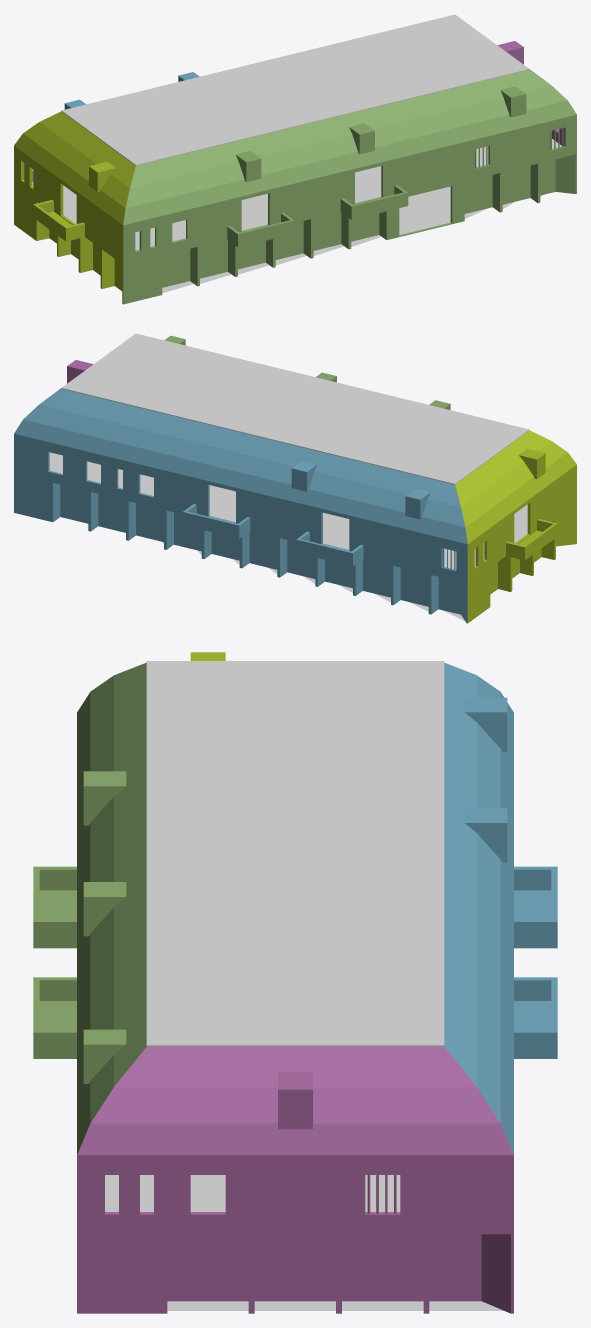
The model's file is rect2.fbx.
3 renders of one model, top to bottom at view 1: azimuth 30°, elevation 25°; view 2: azimuth 150°, elevation 25°; view 3: azimuth 270°, elevation 25°, orthographic. The views are drawn at different scales.
Parts seen in each view (by area): view 1: Building; view 2: Building; view 3: Building.
Part boxes in pixels (x1,y1,x2,y2): Building: [14, 14, 576, 304]; Building: [14, 333, 576, 623]; Building: [33, 652, 557, 1313].
Bounding box in the file's own units: 6250 × 1510 × 3000.
